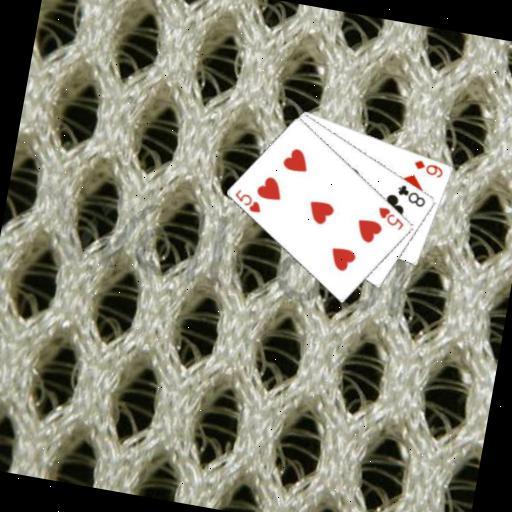5H: (373, 202, 409, 232), (229, 185, 265, 214)
6D: (409, 155, 446, 179)
8C: (392, 180, 429, 209)
